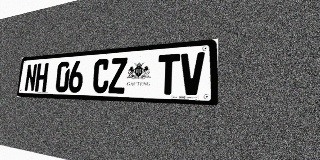0: (55, 61, 70, 92)
6: (68, 60, 84, 93)
C: (92, 58, 110, 93)
H: (35, 63, 49, 92)
N: (24, 64, 37, 92)
T: (157, 54, 180, 95)
V: (180, 52, 205, 95)
Z: (108, 57, 127, 94)
